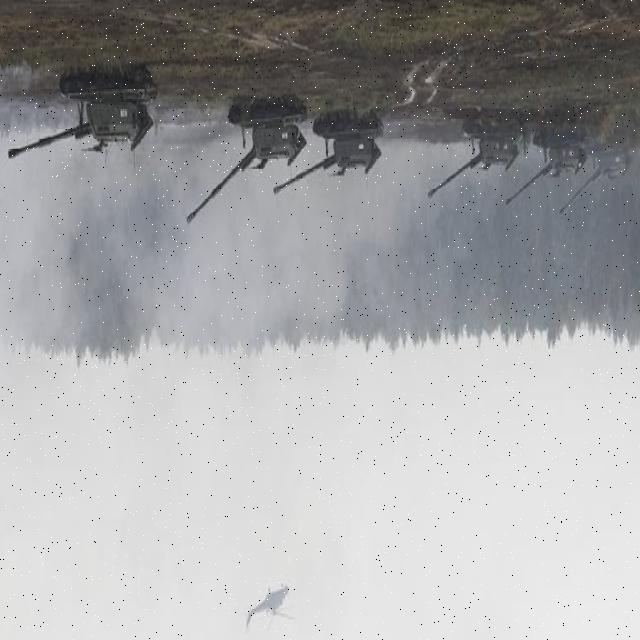ART: (184, 100, 306, 230), (7, 66, 159, 166), (272, 107, 384, 201), (426, 121, 520, 201), (506, 125, 586, 208), (558, 138, 634, 218)
